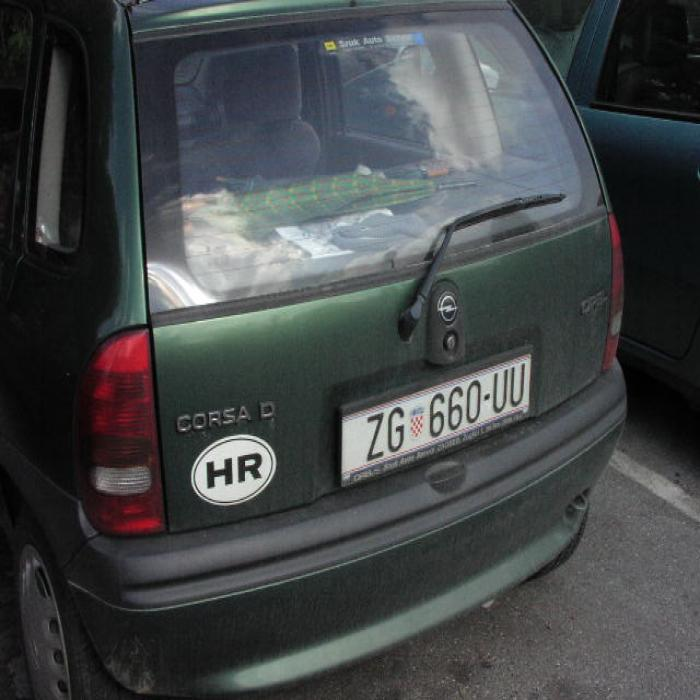number_plate: (342, 356, 530, 483)
